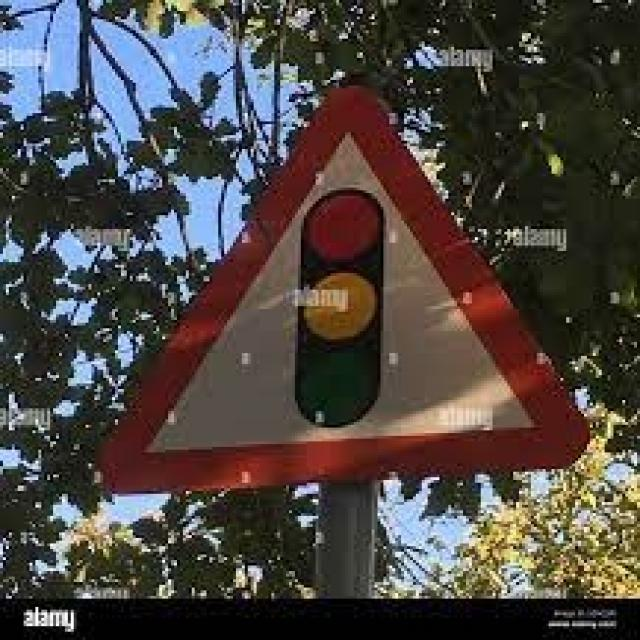light_traffic: (88, 80, 602, 494)
